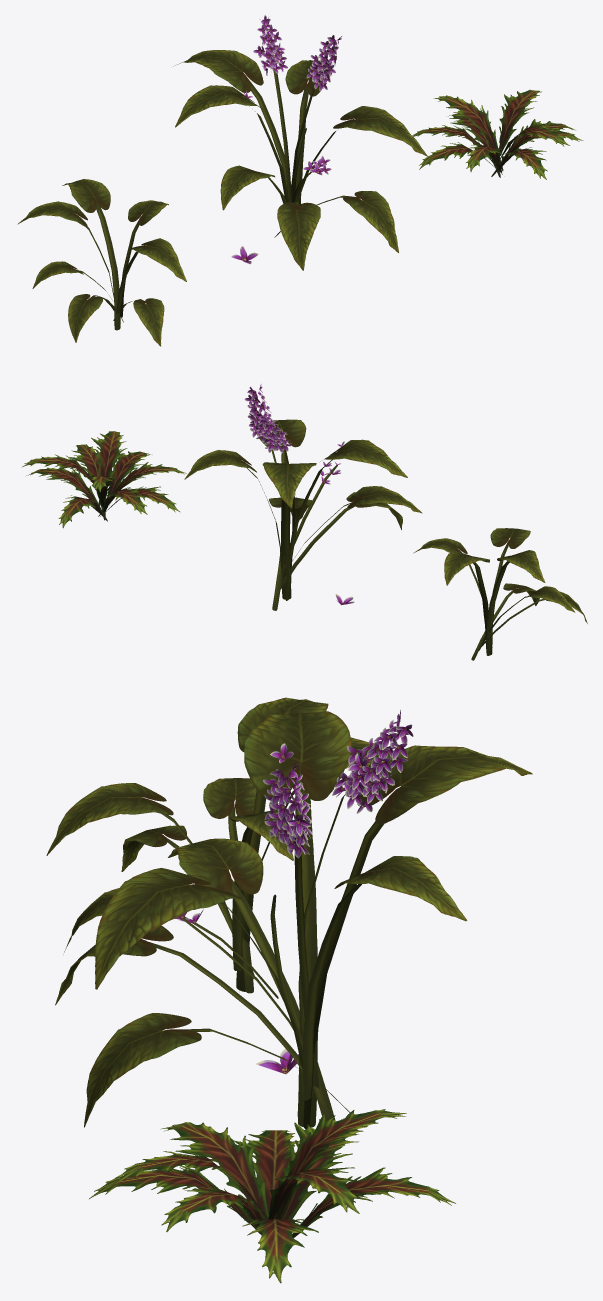
The model's file is tresplantas.glb.
The picture shows the model from 3 angles, top to bottom: view 1: azimuth 30°, elevation 25°; view 2: azimuth 150°, elevation 25°; view 3: azimuth 270°, elevation 25°; orthographic projection. The views are drawn at different scales.
Parts seen in each view (by area): view 1: Object_2.001; view 2: Object_2.001; view 3: Object_2.001.
Part boxes in pixels (x1,y1,x2,y2): Object_2.001: (17,15,583,346); Object_2.001: (22,384,587,660); Object_2.001: (46,697,532,1283).
Size of the model in its own units: 2.74 by 1.13 by 1.18.
1 material, 1 textured.
